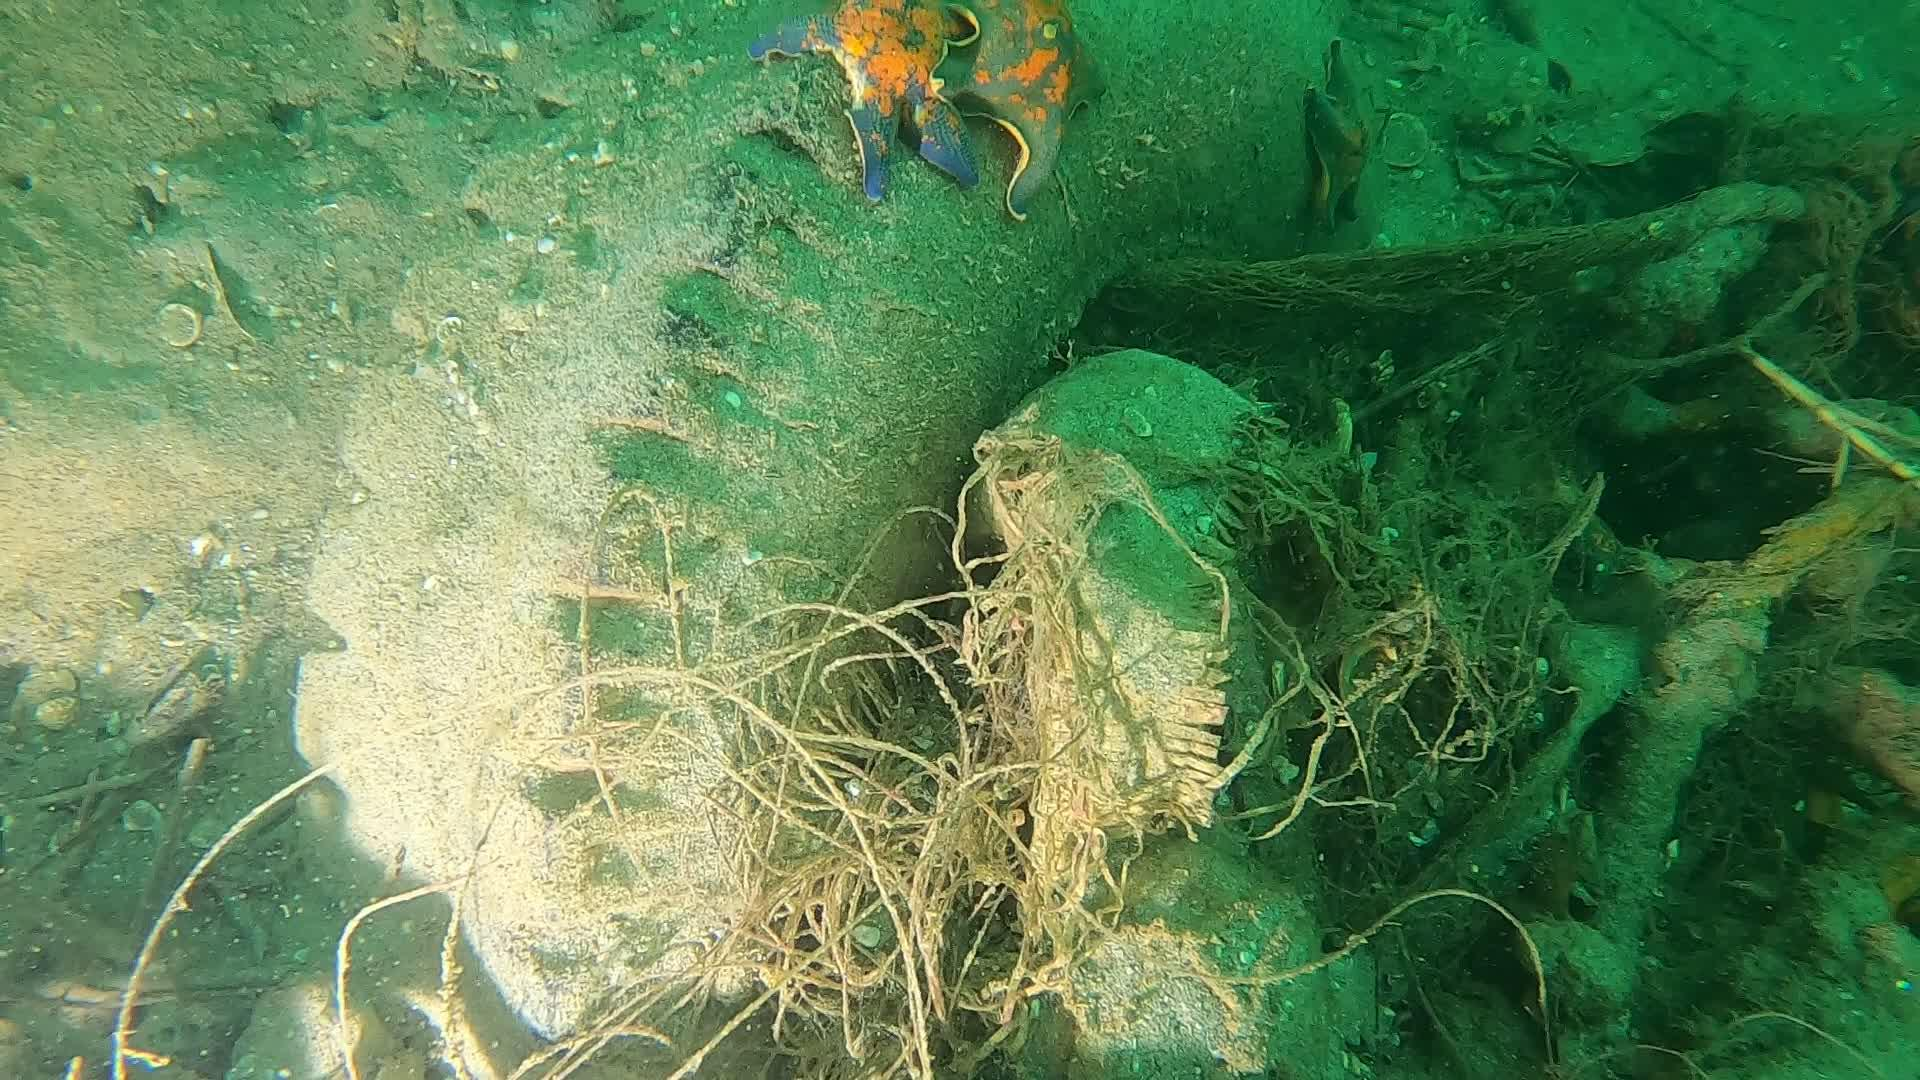fish net: (1108, 256, 1378, 313)
tire: (293, 0, 1375, 1040)
